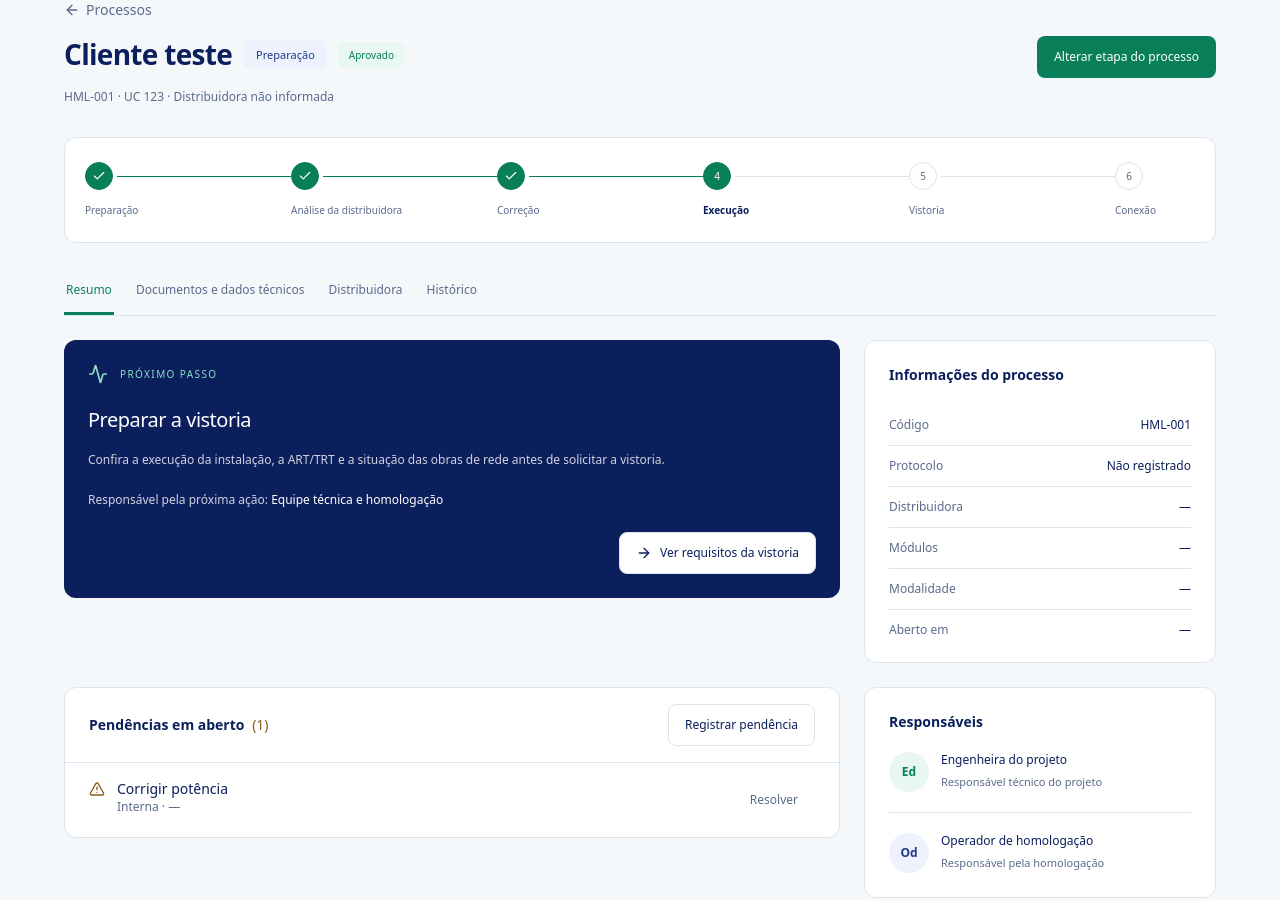
Test: experiência do processo › preserva a alteração de etapa do homologador e não promete conexão ao aprovar o projeto
Step 1. Click the button "Alterar etapa do processo" → [1127, 57], box x1=1037 y1=36 x2=1216 y2=78
(page scrolled)
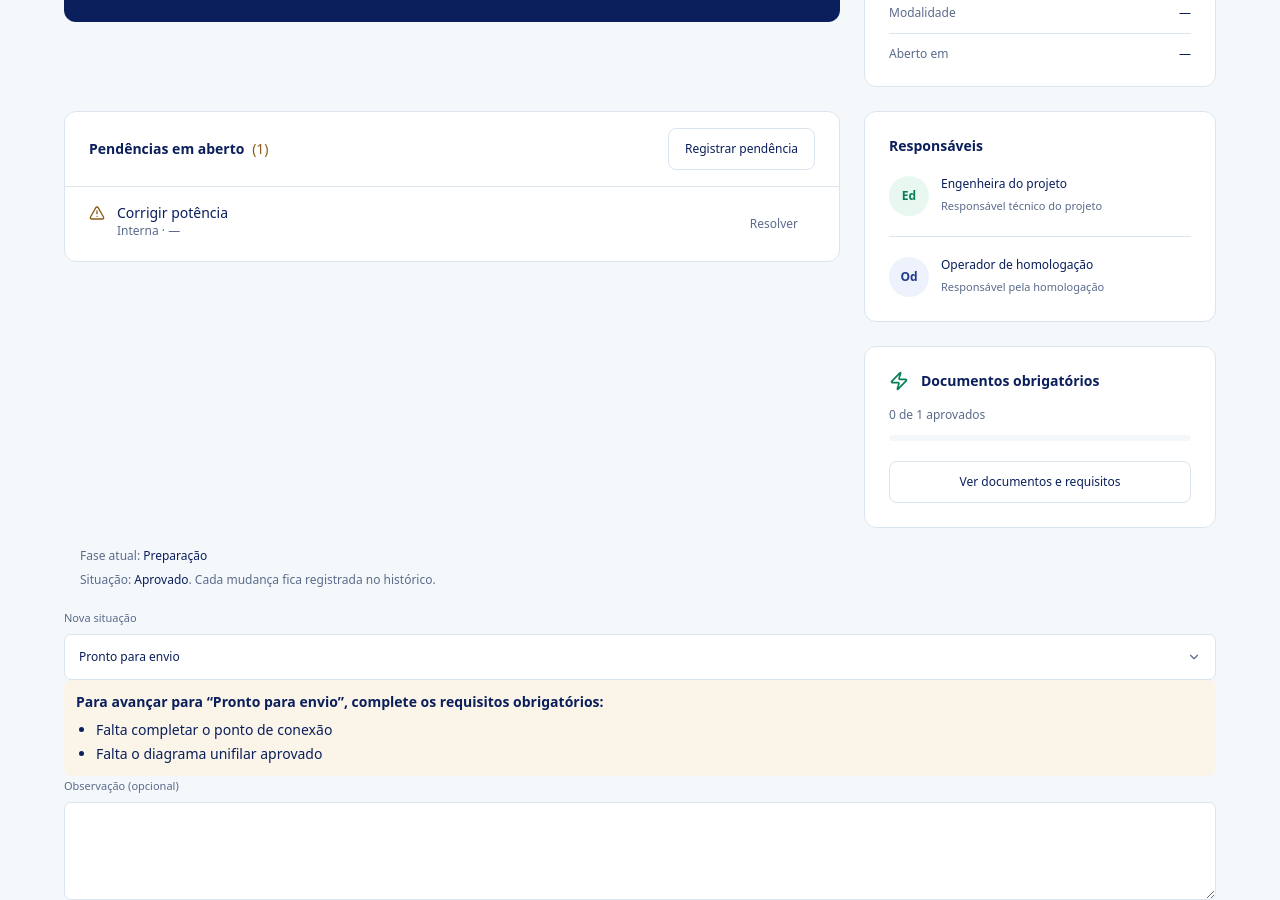
Expected: the dialog is shown, x1=64 y1=528 x2=1216 y2=899
